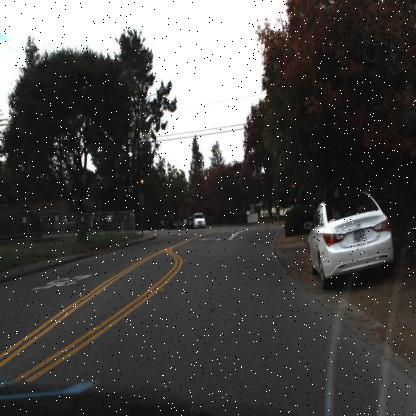car: (304, 181, 395, 298), (191, 210, 205, 232), (170, 216, 184, 232), (185, 213, 195, 231)
trafficLight-Red: (123, 186, 131, 202), (140, 175, 147, 191), (139, 177, 145, 194)
